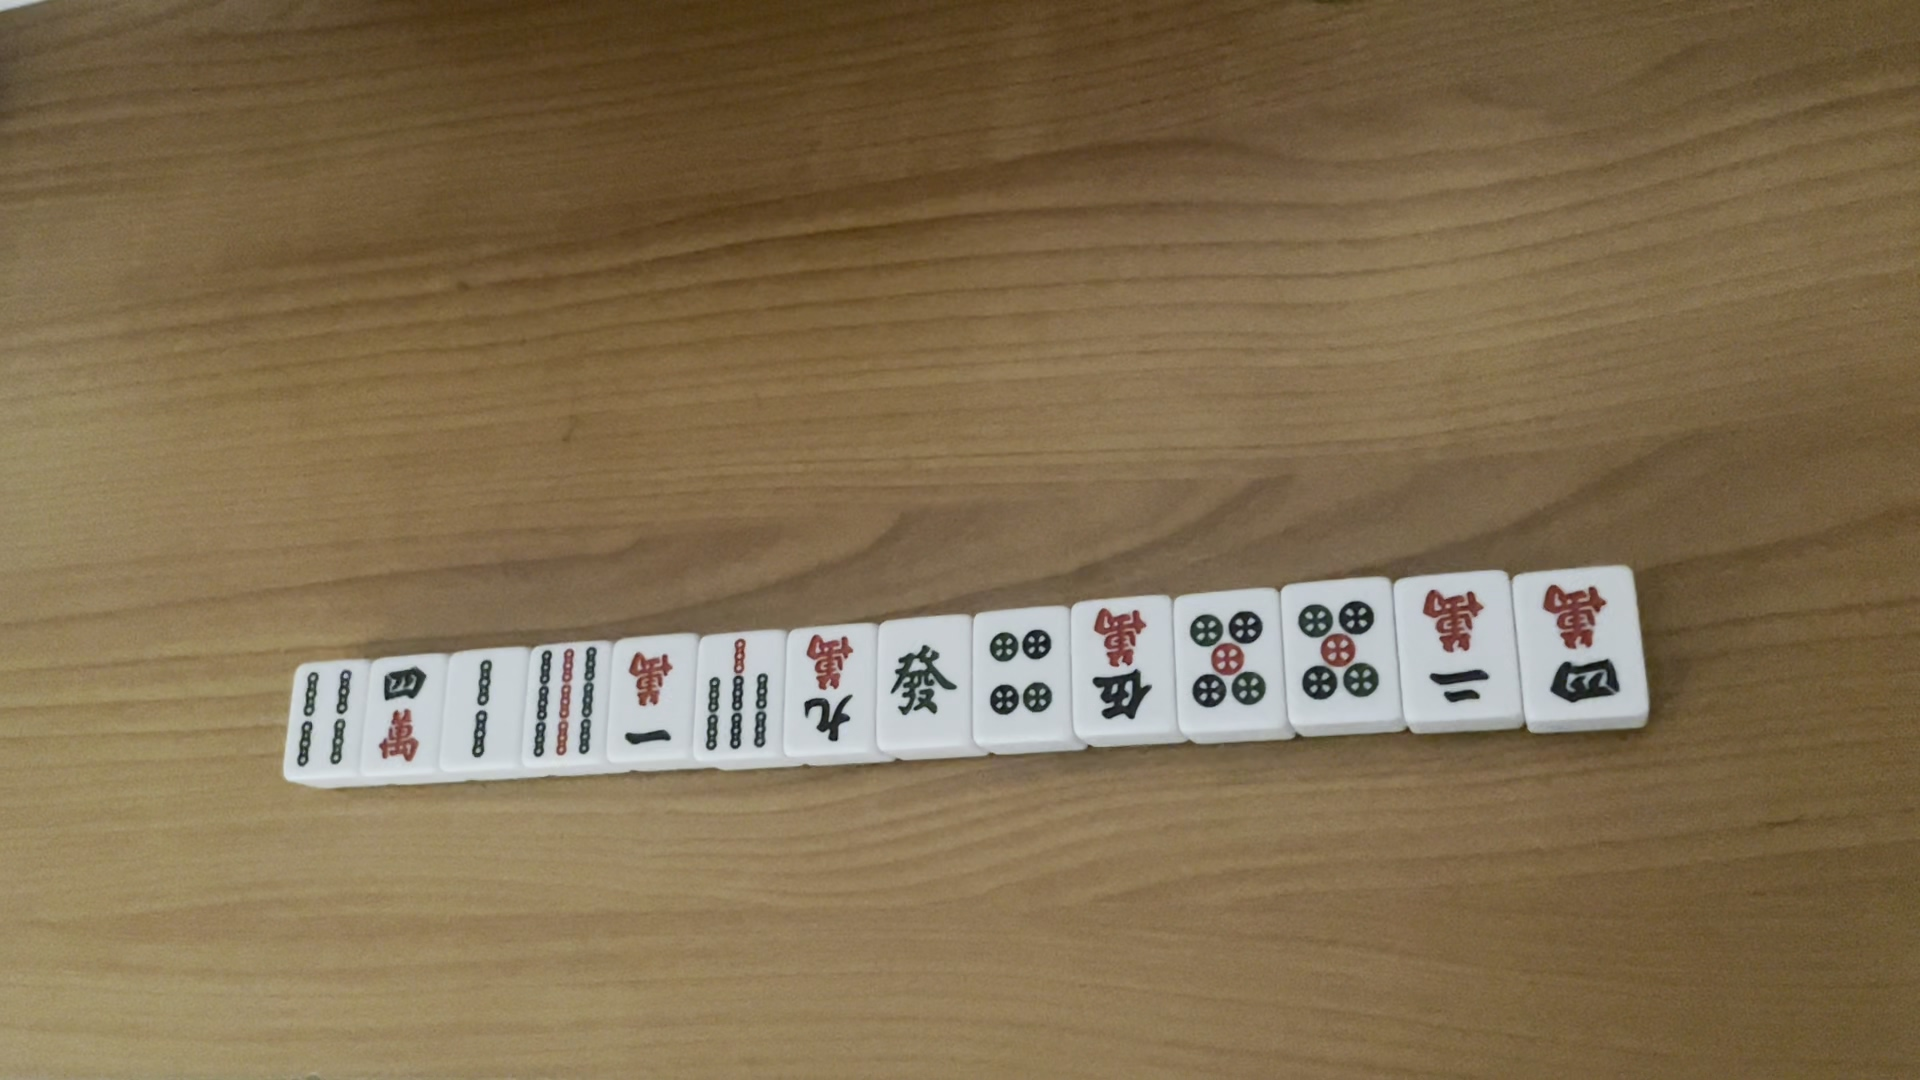b-2: (460, 654, 498, 762)
b-4: (290, 667, 352, 770)
b-7: (700, 634, 777, 753)
b-9: (529, 646, 603, 760)
c-1: (620, 647, 686, 748)
c-2: (1414, 588, 1501, 711)
c-4: (1536, 578, 1619, 712), (375, 665, 429, 767)
c-5: (1077, 605, 1155, 724)
c-9: (800, 633, 858, 748)
d-4: (982, 624, 1058, 725)
d-5: (1187, 611, 1267, 713), (1296, 603, 1379, 698)
honors-green: (886, 641, 961, 721)
